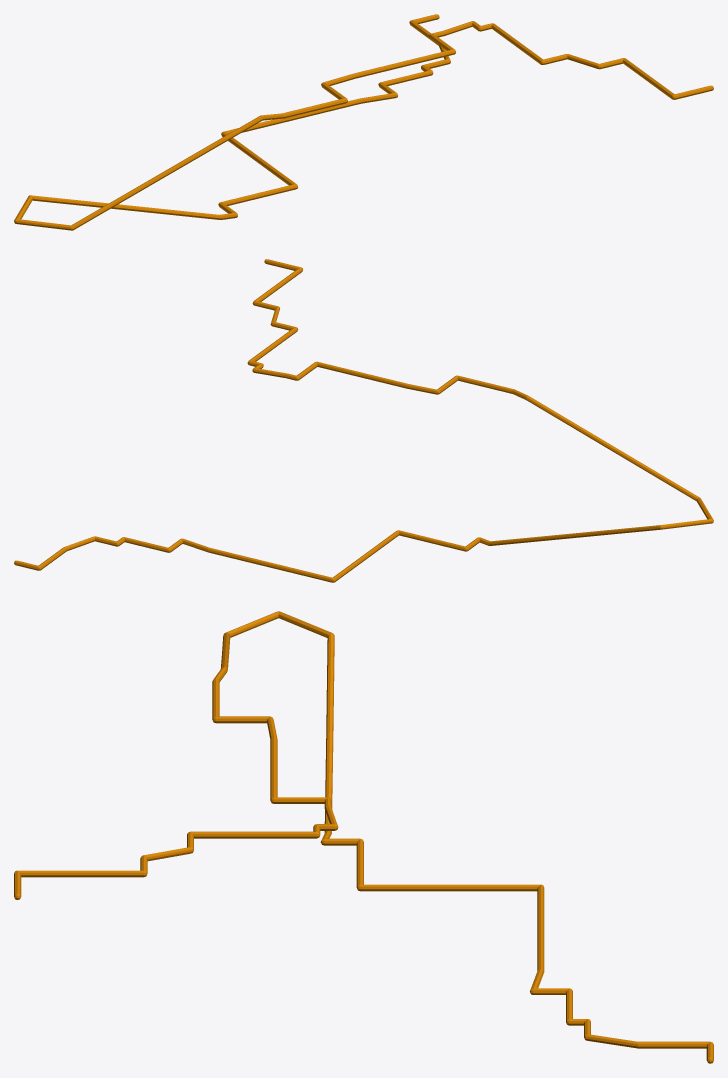
3 views of the same model, one above another, from view 1: azimuth 30°, elevation 25°; view 2: azimuth 150°, elevation 25°; view 3: azimuth 270°, elevation 25° (orthographic). The views are drawn at different scales.
Bounding box in the file's own units: 2406 × 520 × 1939.
